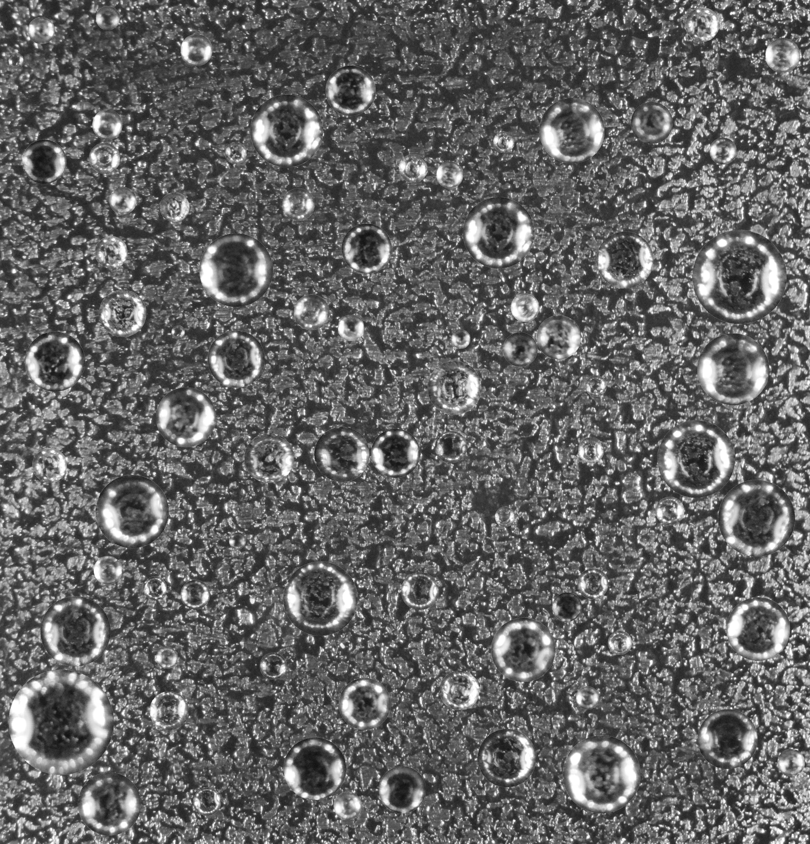Bubble: (8, 669, 113, 774), (692, 229, 786, 323), (562, 735, 640, 813), (657, 420, 735, 497), (718, 479, 795, 556), (283, 561, 357, 635), (199, 233, 272, 306), (95, 475, 168, 548), (250, 94, 322, 167), (697, 333, 769, 405), (463, 197, 534, 268), (40, 596, 110, 666), (539, 98, 604, 163), (491, 617, 555, 681), (726, 597, 790, 660), (77, 772, 140, 835), (283, 737, 346, 800), (697, 709, 757, 769), (24, 331, 84, 391), (156, 387, 215, 447), (477, 729, 536, 787), (596, 231, 653, 288), (207, 330, 264, 387), (314, 426, 369, 481), (427, 361, 481, 414), (338, 678, 390, 729), (325, 65, 375, 115), (341, 223, 391, 273), (371, 428, 420, 477), (244, 433, 293, 482), (378, 766, 425, 813), (99, 289, 146, 336), (536, 315, 580, 359), (22, 139, 66, 183), (631, 101, 672, 143), (439, 670, 479, 710), (149, 691, 188, 730), (401, 572, 438, 609), (293, 294, 329, 330), (32, 448, 66, 482), (503, 332, 537, 366), (765, 38, 799, 72), (685, 7, 719, 41), (282, 188, 314, 220), (95, 236, 127, 268), (180, 34, 212, 65), (577, 568, 608, 599), (435, 431, 466, 462), (89, 142, 119, 173), (92, 109, 122, 139), (159, 192, 189, 221), (180, 580, 209, 609), (552, 592, 581, 621), (655, 496, 684, 525), (398, 154, 427, 182), (510, 293, 539, 321), (93, 556, 121, 584), (333, 792, 361, 820), (193, 787, 221, 815), (337, 314, 364, 341), (777, 749, 804, 776), (109, 187, 136, 214), (259, 652, 286, 679), (709, 137, 736, 164), (436, 161, 463, 188), (27, 17, 54, 43), (578, 437, 604, 463), (143, 576, 166, 600), (95, 6, 119, 29), (608, 631, 631, 654), (576, 686, 598, 709), (224, 142, 246, 163), (585, 375, 606, 396), (493, 131, 514, 152), (156, 647, 177, 668), (495, 506, 515, 526), (451, 329, 470, 348), (229, 532, 245, 549), (8, 53, 23, 68), (171, 325, 184, 339)
